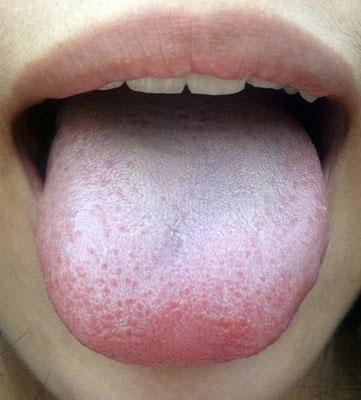baitaishe: (35, 97, 330, 368)
